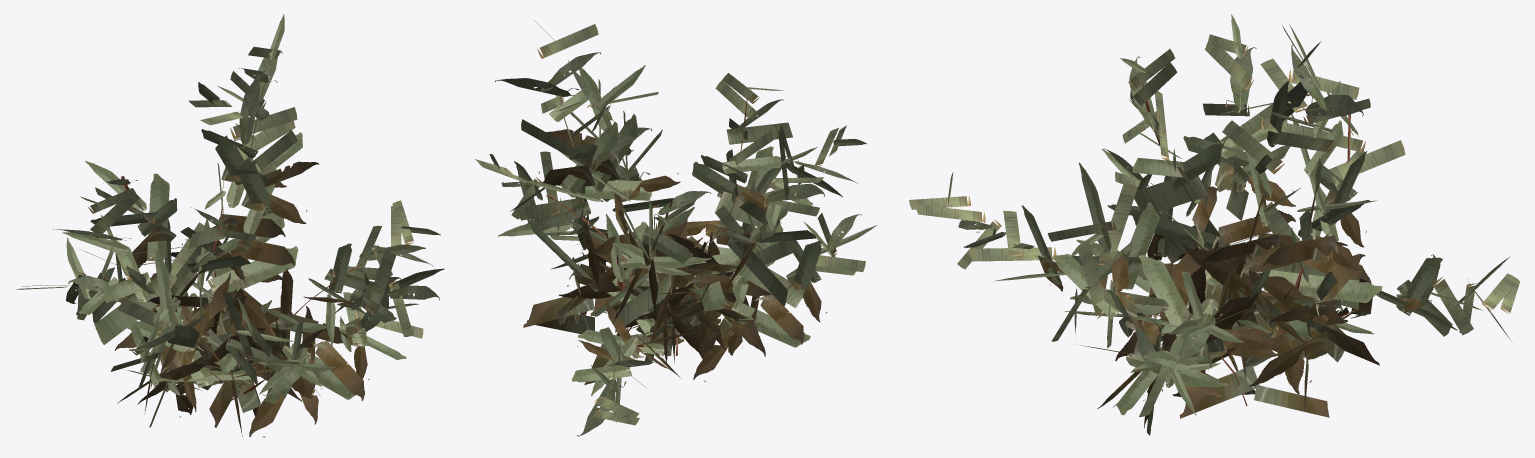
Rendered from ph_shrub_02.glb.
The picture shows the model from 3 angles, left to right: view 1: azimuth 30°, elevation 25°; view 2: azimuth 150°, elevation 25°; view 3: azimuth 270°, elevation 25°; orthographic projection. The views are drawn at different scales.
Parts seen in each view (by area): view 1: shrub_02_c_stems; view 2: shrub_02_c_stems; view 3: shrub_02_c_stems.
Part boxes in pixels (bbox=[...]): shrub_02_c_stems: bbox=[16, 14, 444, 437]; shrub_02_c_stems: bbox=[475, 20, 876, 436]; shrub_02_c_stems: bbox=[909, 14, 1520, 435].
Size of the model in its own units: 1.91 by 1.8 by 2.37.
Materials: 1 (1 with a texture image).
